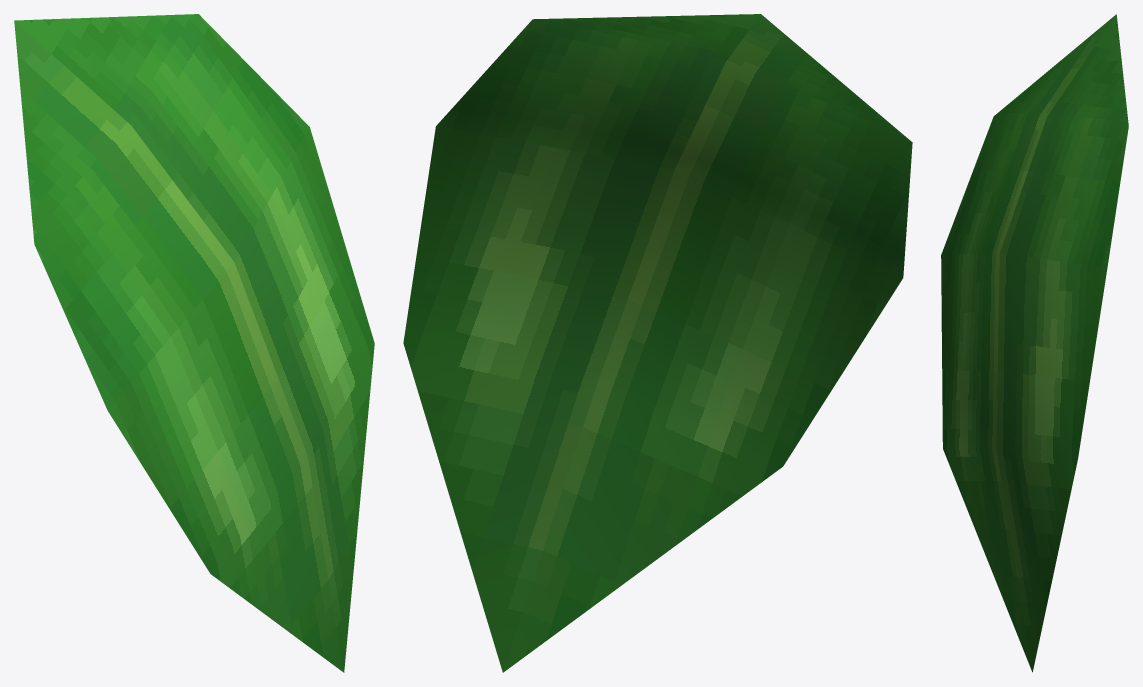
The model's file is EKH_BARRELROOM_PS_JA1_OBJECT127.fbx.
3 views of the same model, side by side, from view 1: azimuth 30°, elevation 25°; view 2: azimuth 150°, elevation 25°; view 3: azimuth 270°, elevation 25° (orthographic). The views are drawn at different scales.
Visible parts, largest first — view 1: EKH_BARRELROOM_PS_JA1_OBJECT127; view 2: EKH_BARRELROOM_PS_JA1_OBJECT127; view 3: EKH_BARRELROOM_PS_JA1_OBJECT127.
Part boxes in pixels (x1,y1,x2,y2): EKH_BARRELROOM_PS_JA1_OBJECT127: [14, 14, 374, 672]; EKH_BARRELROOM_PS_JA1_OBJECT127: [403, 14, 912, 672]; EKH_BARRELROOM_PS_JA1_OBJECT127: [941, 14, 1128, 672].
Bounding box in the file's own units: 1984 × 3292 × 1019.
1 material, 1 textured.
